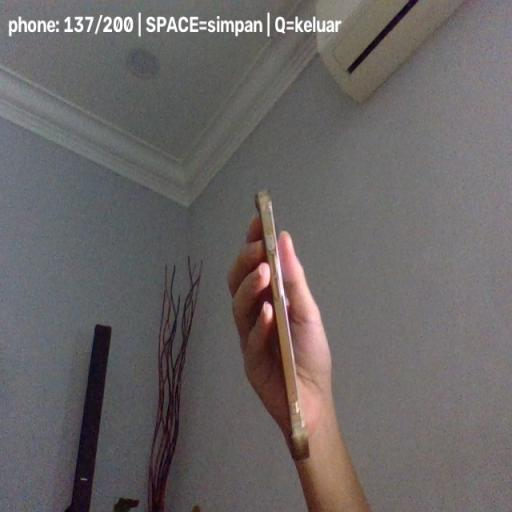Phone: (254, 188, 310, 460)
